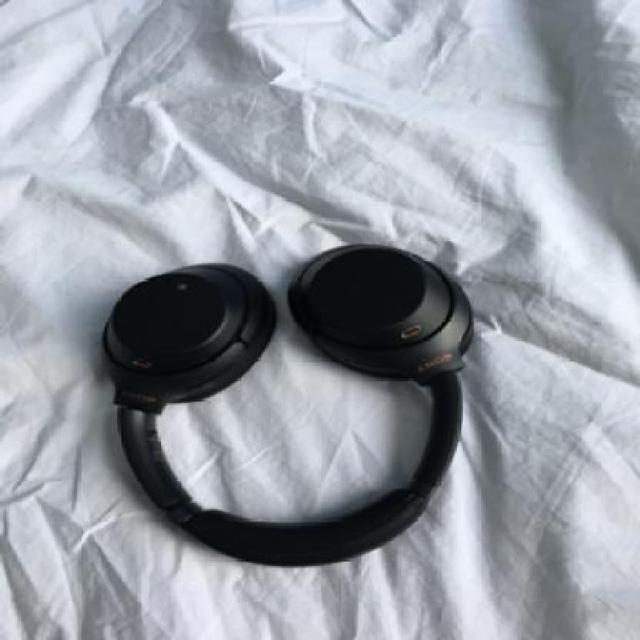earphone: (105, 157, 537, 588)
